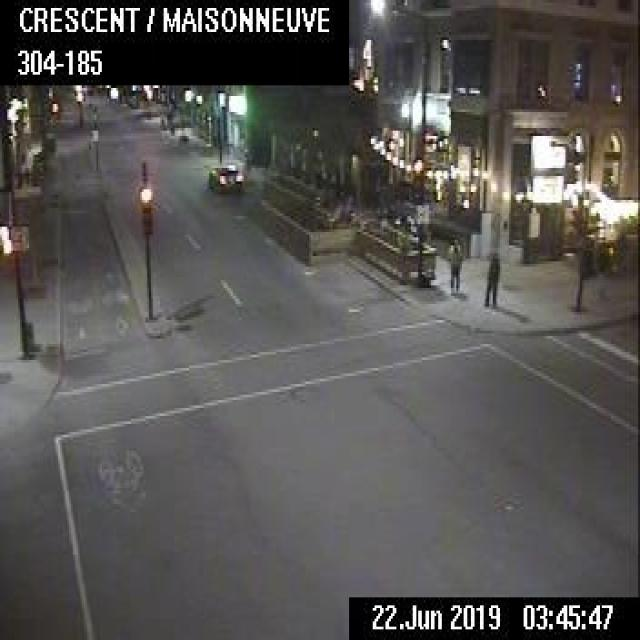pedestrian: (480, 245, 498, 307), (444, 237, 460, 296)
vehicle: (206, 163, 242, 192)
